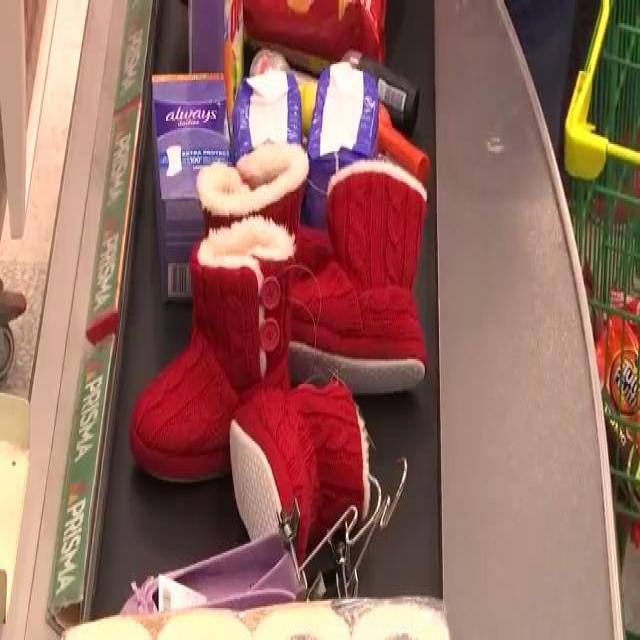utility-box: (135, 240, 290, 462), (288, 163, 432, 390), (239, 367, 364, 549), (204, 148, 333, 279), (148, 76, 233, 271), (124, 546, 332, 602), (342, 51, 438, 169), (330, 55, 376, 237), (186, 0, 248, 96), (238, 68, 292, 174), (260, 52, 328, 126)
